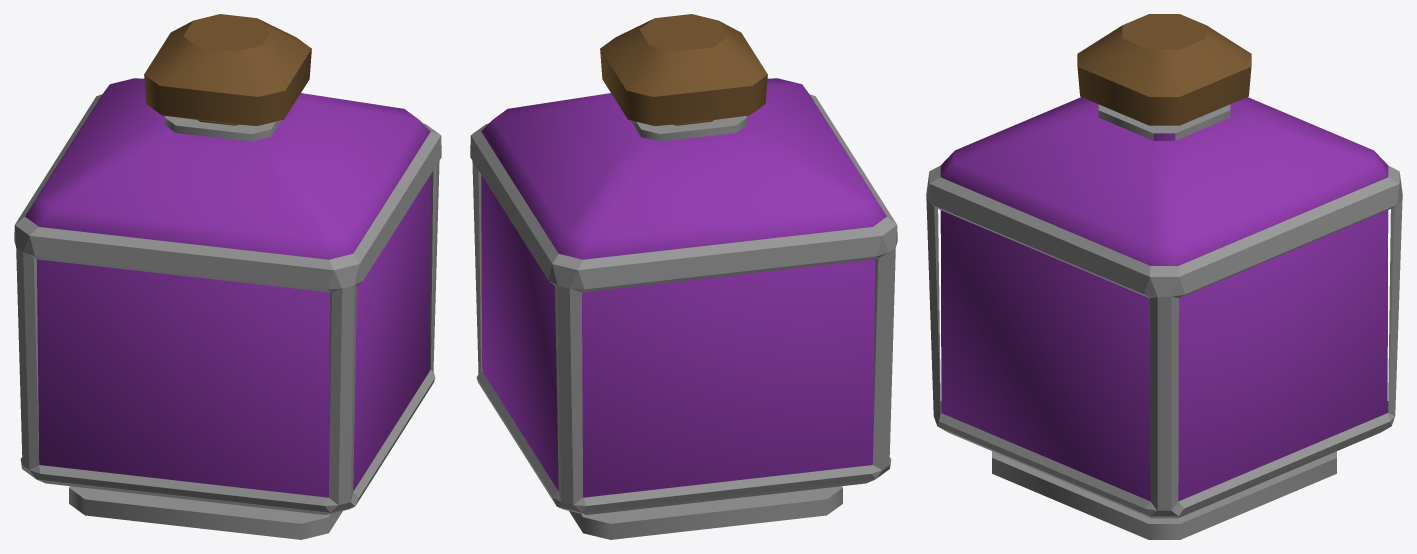
File: square.glb
3 views of the same model, side by side, from view 1: azimuth 30°, elevation 25°; view 2: azimuth 150°, elevation 25°; view 3: azimuth 270°, elevation 25° (orthographic).
Parts seen in each view (by area): view 1: square; view 2: square; view 3: square.
Boxes of the visible parts, x1,y1,x2,y2 form: square: [14, 14, 441, 539]; square: [470, 14, 897, 539]; square: [926, 14, 1402, 539].
Bounding box in the file's own units: 3.07 × 3.1 × 3.07.
